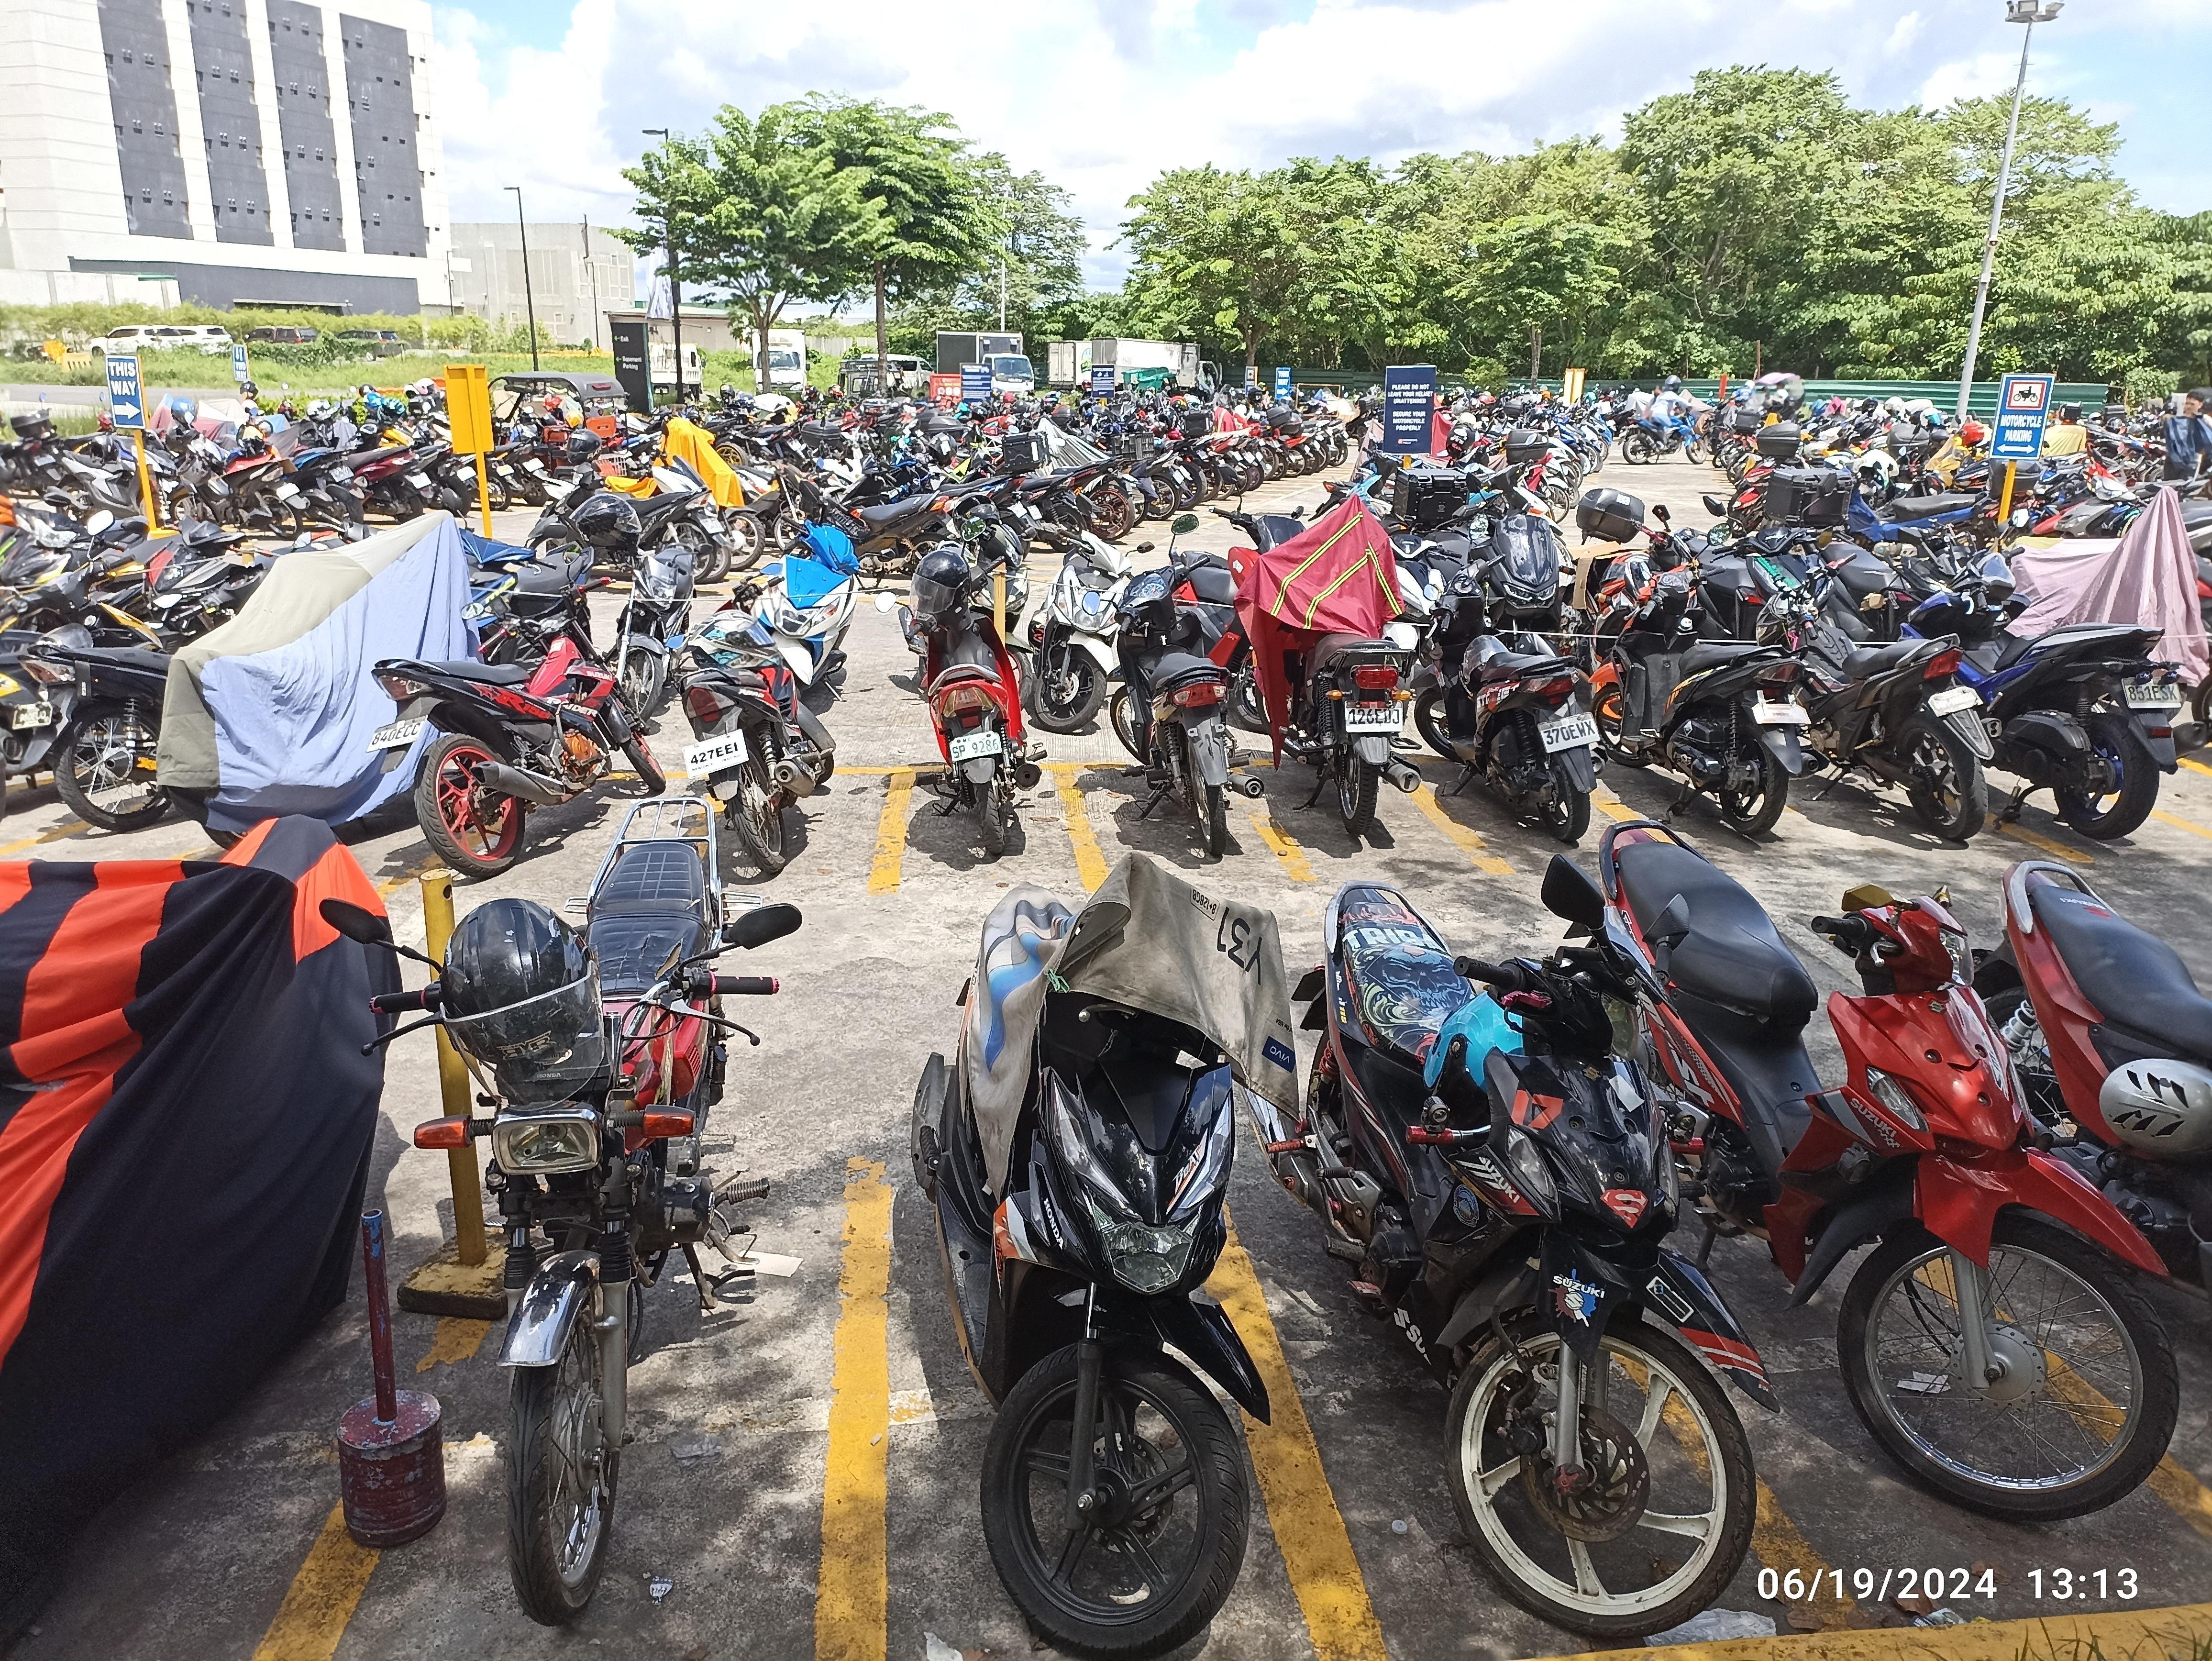occupied: (248, 1150, 893, 1661), (813, 1152, 1392, 1661), (1218, 757, 1519, 883), (1050, 761, 1319, 893), (867, 761, 1116, 893), (663, 764, 916, 892)
